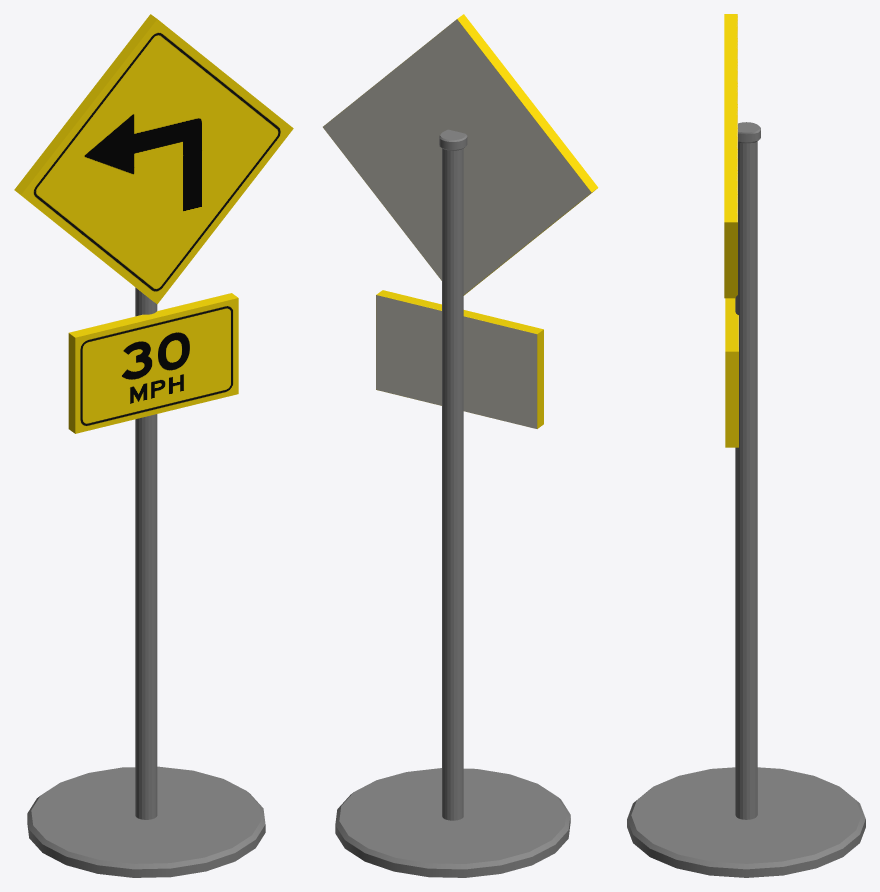
Rendered from turn_sign.fbx.
3 views of the same model, side by side, from view 1: azimuth 30°, elevation 25°; view 2: azimuth 150°, elevation 25°; view 3: azimuth 270°, elevation 25° (orthographic).
Parts seen in each view (by area): view 1: turn_sign; view 2: turn_sign; view 3: turn_sign.
Boxes of the visible parts, left/top/right/bottom form: turn_sign: left=14, top=14, right=293, bottom=877; turn_sign: left=323, top=14, right=598, bottom=877; turn_sign: left=627, top=14, right=865, bottom=877.
Bounding box in the file's own units: 8.7 × 24.9 × 6.62.
